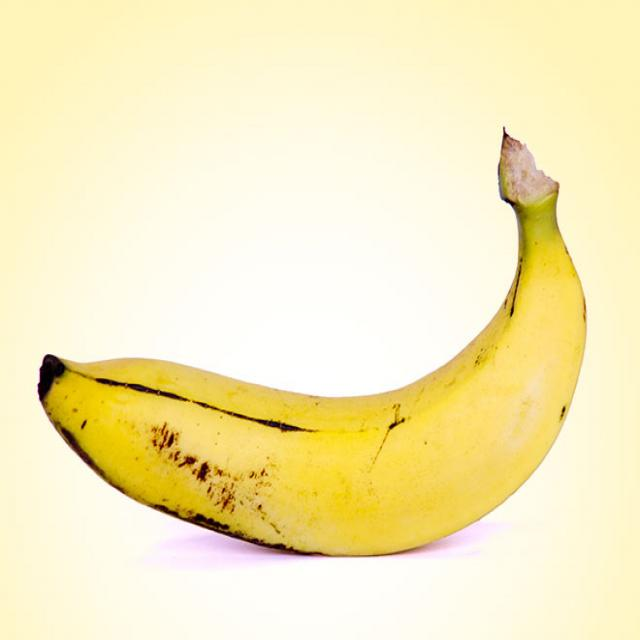Banana: (34, 139, 591, 562)
